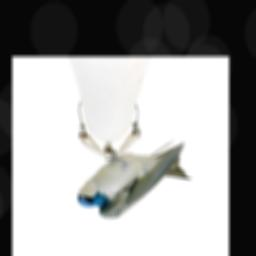Swallow: (77, 137, 193, 219)
